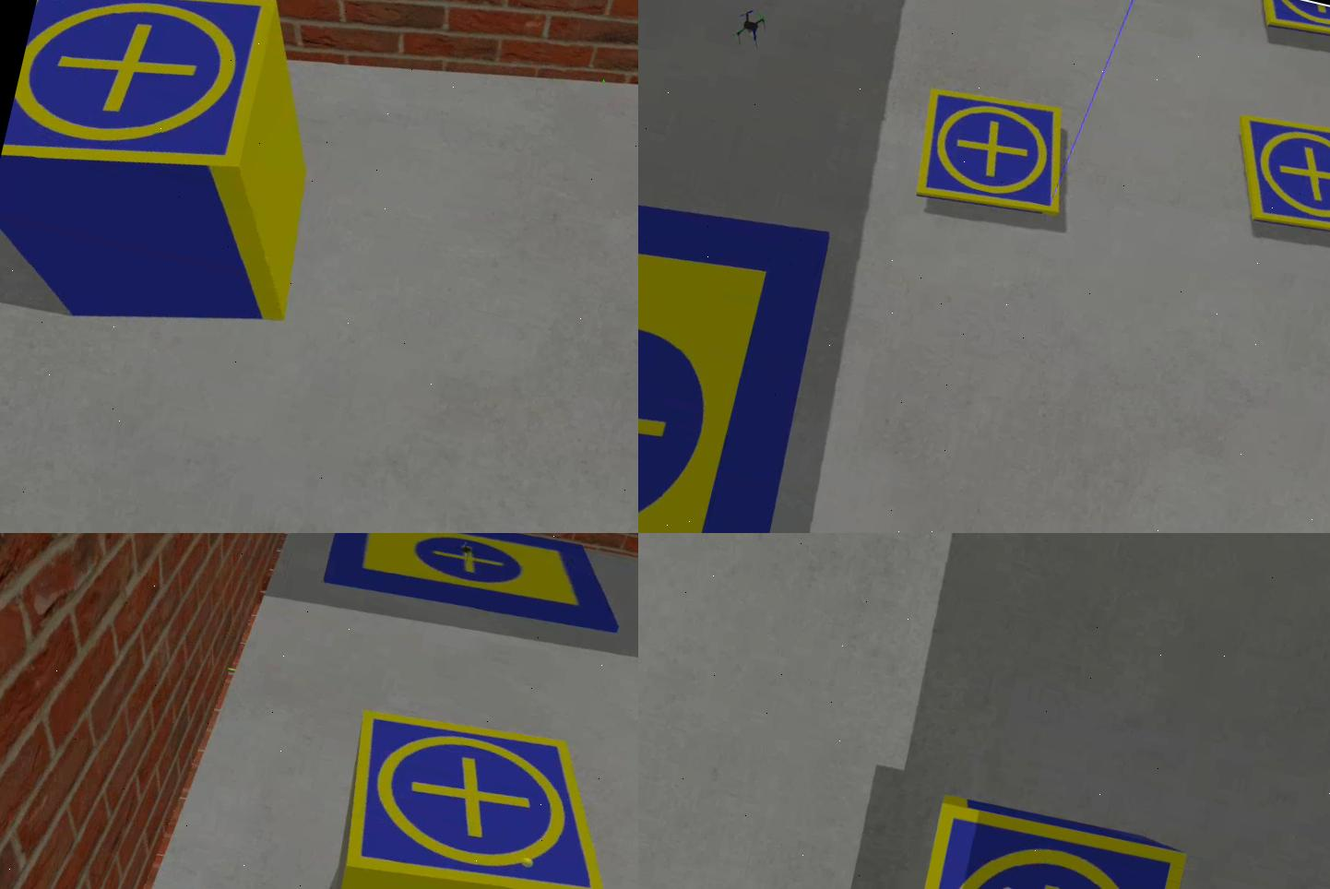large_base: (639, 134, 846, 534), (323, 534, 639, 646)
small_base: (328, 696, 639, 889), (1, 1, 280, 213), (907, 78, 1083, 229), (888, 800, 1185, 889), (1216, 105, 1330, 254), (1253, 1, 1330, 53)
